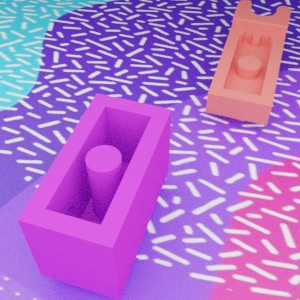lego: (17, 93, 171, 299), (205, 0, 291, 125)
